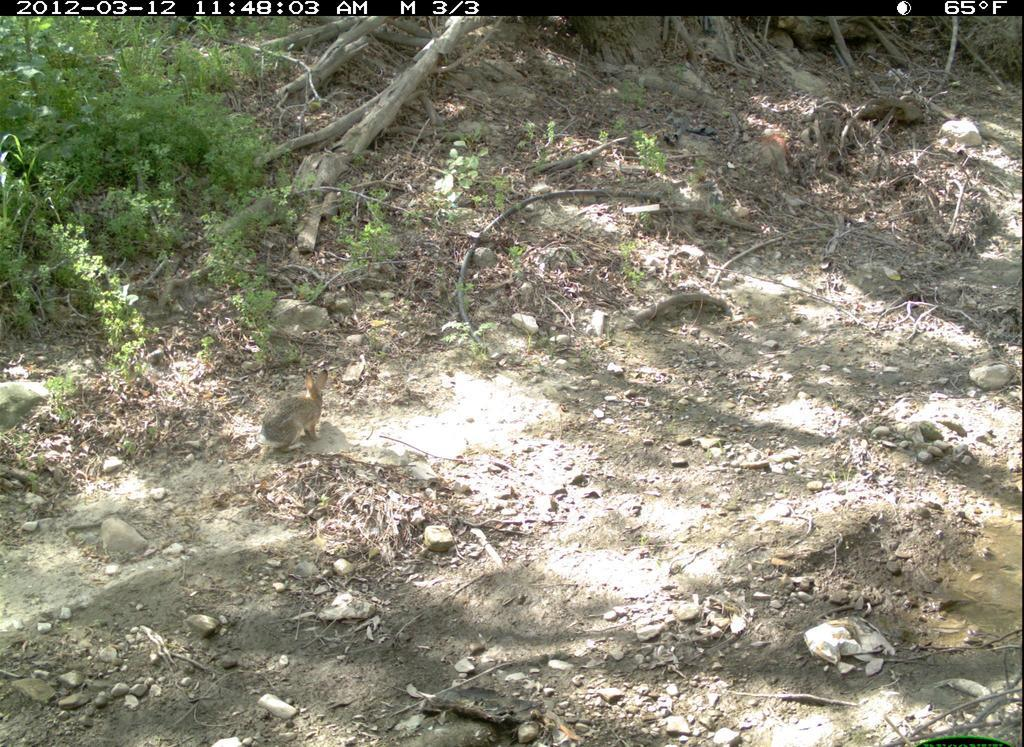rabbit: (248, 364, 349, 454)
